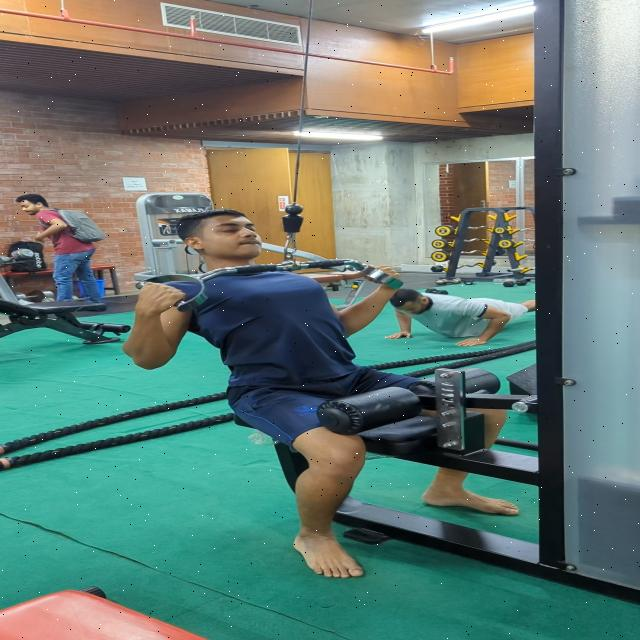Normal_LatPulldown: (116, 203, 524, 582)
